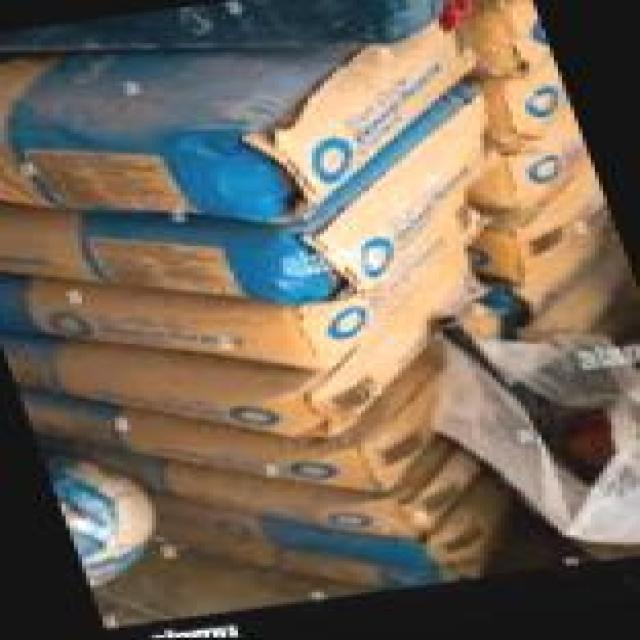gunny_bag: (0, 84, 503, 305), (0, 18, 488, 225), (0, 215, 474, 371), (57, 310, 435, 436), (122, 349, 446, 496), (167, 445, 489, 542), (474, 165, 608, 287), (464, 110, 592, 215), (516, 259, 627, 346), (490, 55, 572, 150), (460, 0, 553, 81), (21, 391, 119, 445)
